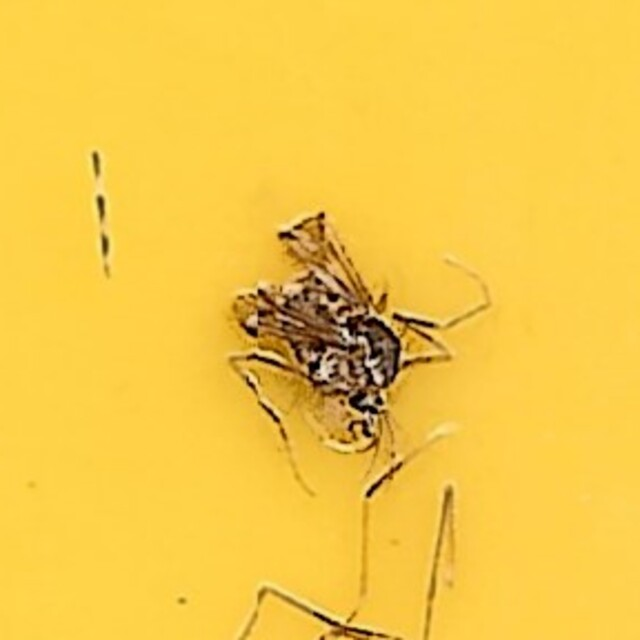Nematocera: (222, 211, 418, 429)
